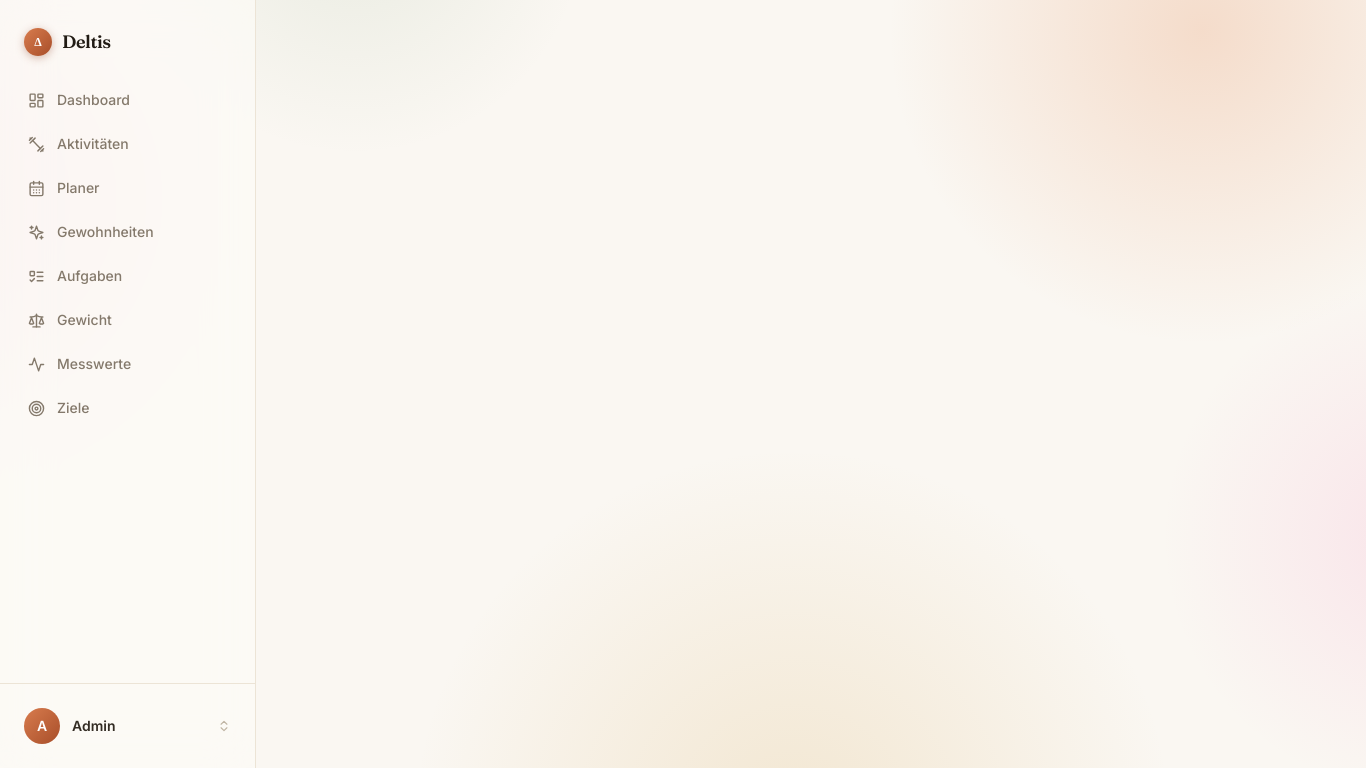
Test: Sidebar › shows the admin entry in the user menu for admin users
Check: the link "Dashboard" is shown, box [28, 91, 130, 108]
Click the button with aria-label "Benutzermenü" at [128, 726], box [14, 700, 241, 752]
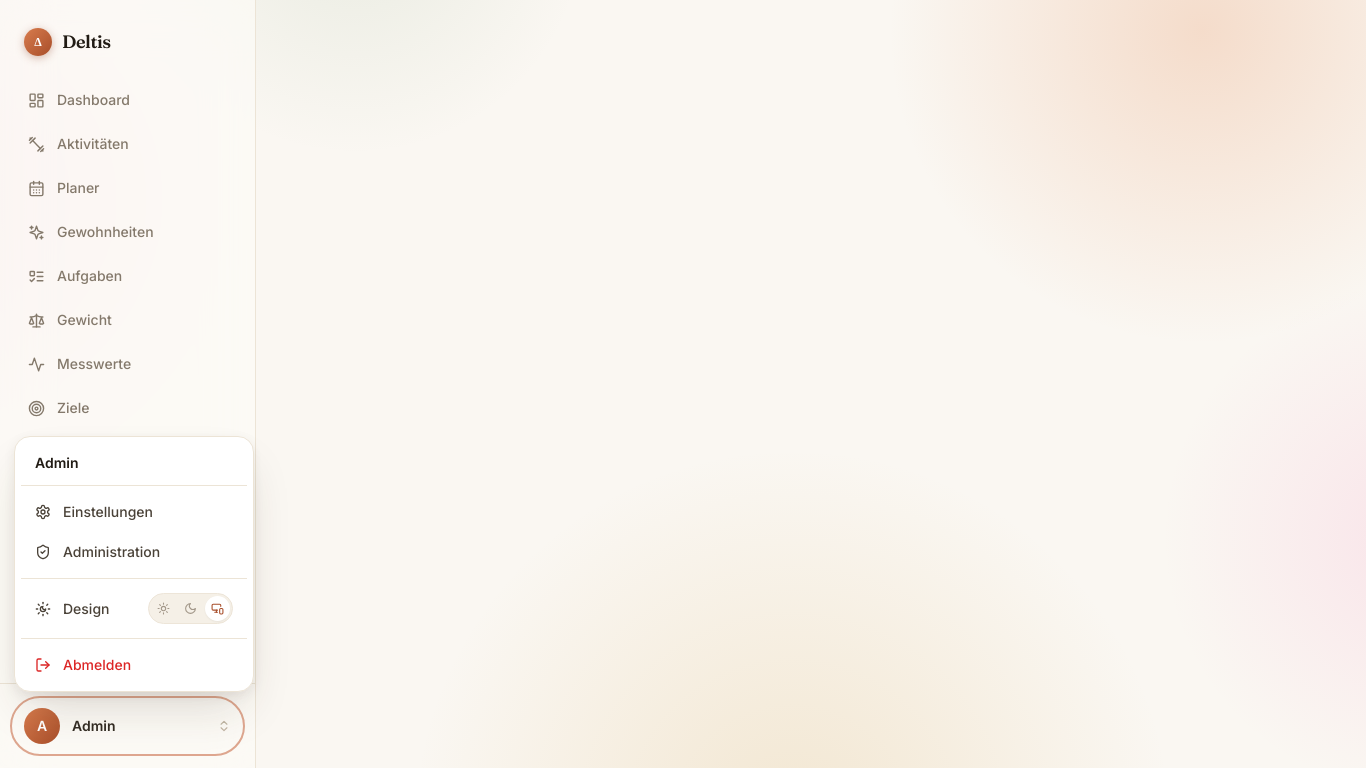
Check: the text "Administration" is shown, box [63, 543, 160, 560]
